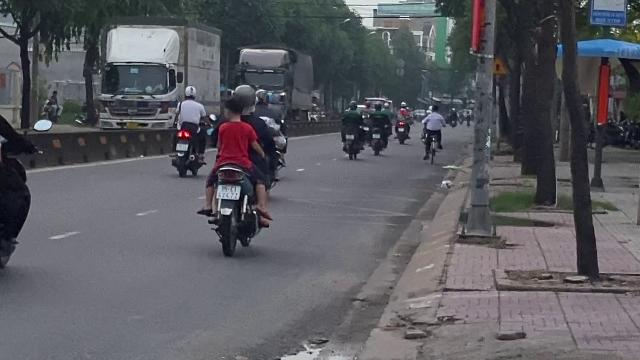helmet: (232, 84, 256, 104)
licenseplate: (217, 184, 239, 200)
motorcyclist: (197, 84, 277, 254)
nohelmet: (224, 97, 244, 123)
